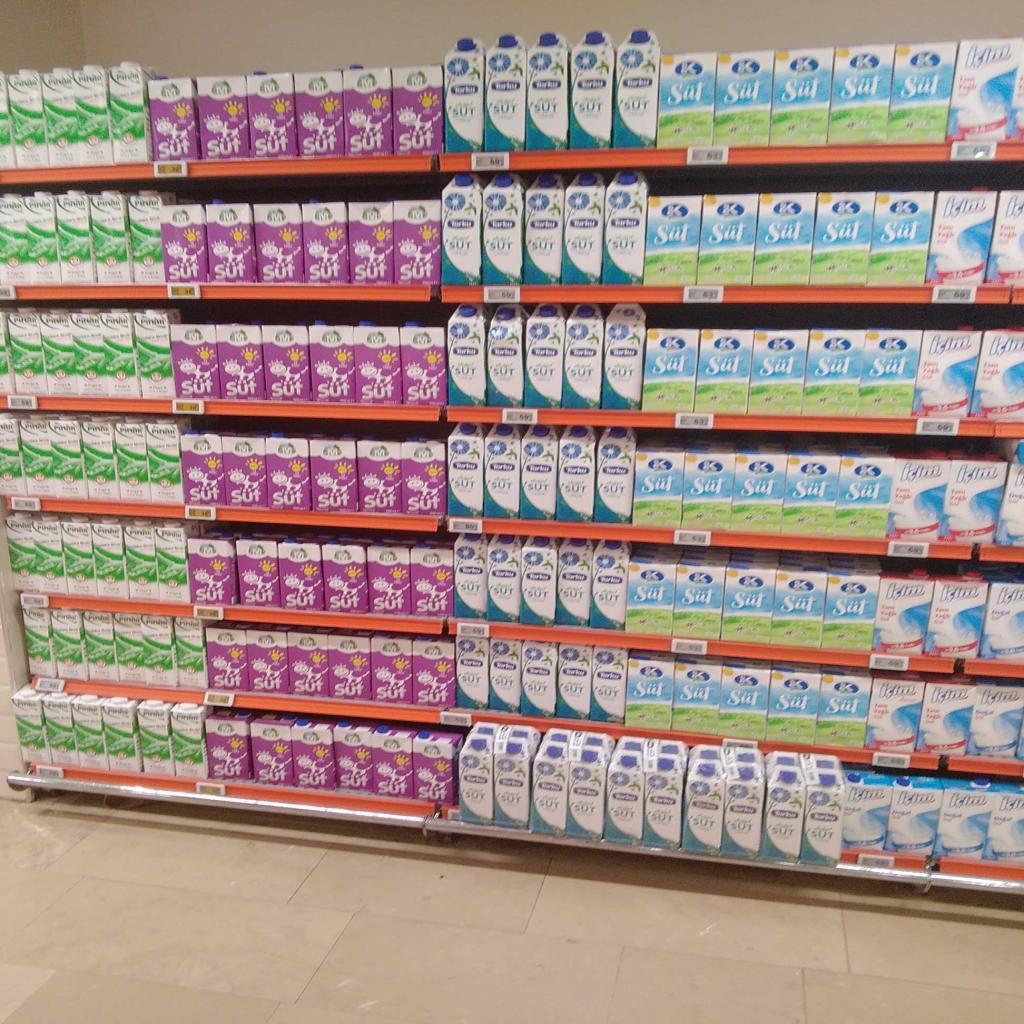price_tag: (951, 141, 997, 160), (915, 418, 960, 437), (932, 285, 976, 304), (687, 146, 729, 165), (471, 152, 509, 171), (888, 541, 929, 558), (683, 286, 723, 303), (869, 654, 908, 671), (484, 286, 519, 304), (873, 752, 910, 769), (675, 413, 714, 429), (448, 517, 483, 534), (502, 408, 537, 425), (857, 853, 894, 869), (674, 530, 711, 546), (672, 639, 707, 655), (154, 161, 188, 177), (456, 622, 489, 638), (439, 711, 471, 727), (167, 284, 201, 299), (204, 691, 235, 707), (9, 496, 41, 511), (185, 506, 217, 521), (172, 399, 204, 414), (195, 781, 226, 796), (193, 605, 223, 620), (7, 396, 38, 410), (35, 678, 65, 692), (722, 738, 758, 749), (21, 593, 49, 607), (35, 765, 63, 779), (0, 285, 16, 301)
product: (682, 741, 763, 858), (762, 753, 844, 865), (605, 738, 686, 849), (530, 730, 610, 840), (459, 725, 541, 829), (948, 37, 1023, 140), (925, 191, 998, 286), (889, 43, 958, 142), (830, 44, 894, 144), (770, 48, 833, 147), (868, 192, 933, 285), (912, 331, 981, 418), (941, 455, 1008, 543), (810, 193, 873, 285), (753, 192, 816, 284), (714, 51, 773, 149), (940, 457, 1006, 543), (658, 52, 716, 149), (614, 29, 661, 148), (859, 329, 922, 417), (887, 456, 951, 542), (697, 194, 757, 285), (803, 329, 864, 417), (570, 30, 615, 149), (673, 547, 731, 639), (872, 570, 934, 656), (925, 575, 989, 658), (643, 196, 702, 285), (834, 452, 894, 538), (936, 778, 998, 860), (749, 329, 808, 415), (694, 329, 753, 414), (727, 448, 786, 533), (604, 171, 648, 284), (641, 328, 698, 415), (526, 33, 568, 150), (721, 553, 776, 642), (884, 776, 943, 858), (563, 172, 606, 284), (969, 331, 1023, 420), (485, 34, 526, 151), (197, 75, 252, 160), (602, 303, 646, 409), (441, 174, 483, 285), (783, 452, 839, 535), (864, 676, 924, 753), (822, 570, 879, 651), (682, 443, 735, 530), (813, 670, 871, 749), (107, 62, 152, 163), (444, 38, 484, 151), (483, 175, 524, 285), (626, 548, 677, 636), (127, 191, 175, 284), (392, 65, 442, 154), (525, 173, 565, 284), (770, 569, 826, 648), (343, 68, 393, 156), (149, 76, 200, 161), (247, 73, 298, 158), (917, 682, 976, 755), (633, 446, 684, 530), (766, 666, 820, 745), (563, 305, 604, 409), (967, 683, 1023, 759), (718, 661, 770, 740), (352, 323, 402, 405), (447, 304, 487, 406), (525, 305, 565, 407), (254, 203, 304, 284), (205, 201, 255, 282), (296, 70, 343, 156), (393, 199, 440, 285), (309, 324, 360, 403), (8, 70, 49, 168), (73, 65, 113, 165), (161, 203, 210, 284), (842, 772, 892, 851), (487, 305, 526, 406), (171, 324, 222, 401), (302, 202, 349, 284), (596, 427, 636, 523), (90, 192, 132, 283), (400, 324, 447, 405), (556, 426, 596, 521), (349, 202, 394, 286), (262, 325, 311, 402), (55, 193, 96, 284), (43, 68, 81, 166), (484, 424, 523, 519), (217, 325, 266, 400), (984, 190, 1023, 284), (132, 311, 174, 398), (590, 541, 631, 630), (401, 438, 447, 517), (311, 438, 360, 512), (413, 730, 462, 804), (626, 655, 674, 730), (672, 659, 720, 734), (520, 425, 558, 519), (188, 535, 238, 606), (266, 434, 312, 511), (100, 312, 141, 397), (22, 193, 60, 284), (980, 581, 1023, 661), (448, 424, 484, 518), (409, 542, 454, 617), (357, 438, 401, 514), (371, 725, 416, 799), (520, 536, 557, 625), (182, 431, 227, 504), (368, 542, 413, 615), (38, 313, 78, 395), (223, 436, 269, 507), (291, 719, 337, 790), (7, 313, 47, 394), (279, 540, 325, 610), (556, 539, 593, 626), (206, 712, 252, 781), (71, 312, 109, 395), (145, 421, 183, 504), (100, 697, 142, 772), (323, 543, 368, 613), (411, 637, 455, 708), (984, 784, 1023, 864), (237, 539, 283, 606), (48, 419, 87, 498), (82, 421, 121, 500), (252, 716, 296, 786), (487, 535, 522, 622), (90, 520, 129, 598), (153, 524, 191, 604), (12, 686, 51, 763), (136, 700, 175, 777), (589, 646, 628, 723), (327, 634, 372, 700), (114, 422, 151, 502), (206, 627, 252, 691), (71, 695, 110, 770), (170, 703, 208, 779), (29, 519, 68, 593), (371, 634, 412, 704), (247, 629, 291, 694), (60, 518, 97, 595), (454, 533, 487, 619), (0, 195, 31, 285), (334, 723, 375, 791), (20, 419, 56, 495), (520, 641, 556, 717), (5, 514, 40, 592), (287, 631, 329, 696), (557, 644, 593, 719), (141, 616, 179, 687), (43, 694, 80, 766), (124, 524, 158, 600), (51, 610, 87, 679), (83, 612, 119, 680), (173, 617, 206, 689), (456, 637, 489, 709), (489, 639, 521, 713), (995, 463, 1023, 547), (0, 414, 28, 495), (23, 608, 56, 676), (113, 613, 145, 683), (0, 72, 15, 168), (0, 313, 16, 393)
